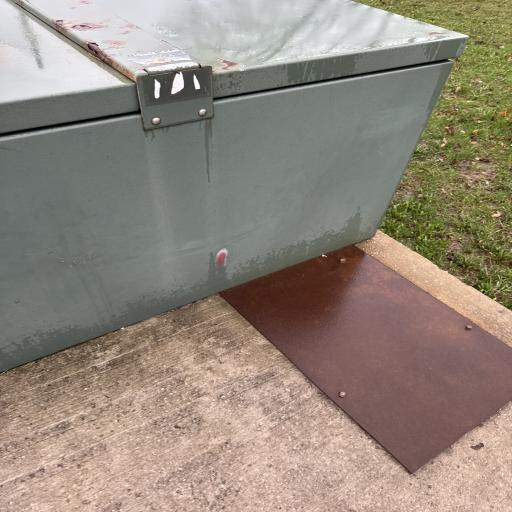Electrical Box: (0, 0, 470, 383)
